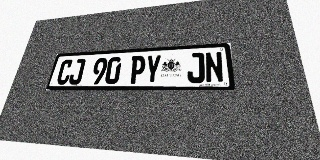0: (104, 57, 122, 84)
9: (90, 57, 108, 84)
C: (55, 59, 74, 85)
J: (187, 52, 205, 83), (68, 59, 86, 85)
N: (205, 51, 224, 83)
P: (128, 55, 146, 84)
Y: (144, 55, 161, 84)
